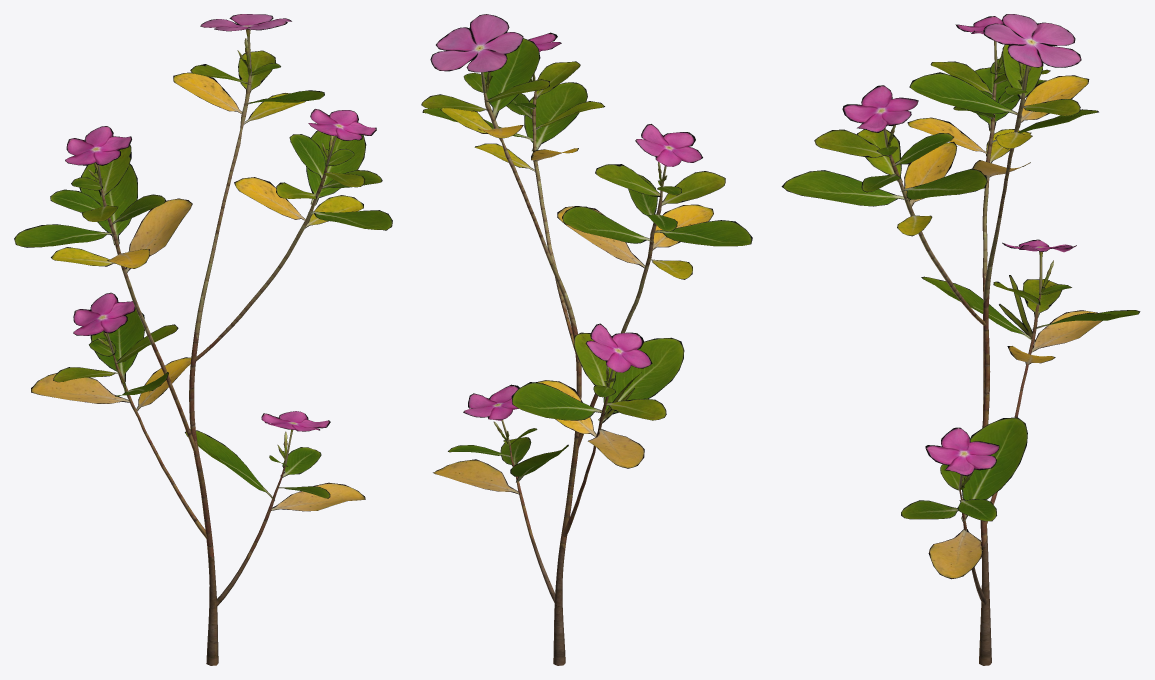
File: trailing-plant.glb
3 views of the same model, side by side, from view 1: azimuth 30°, elevation 25°; view 2: azimuth 150°, elevation 25°; view 3: azimuth 270°, elevation 25° (orthographic). The views are drawn at different scales.
Visible parts, largest first — view 1: periwinkle_plant_03_LOD0; view 2: periwinkle_plant_03_LOD0; view 3: periwinkle_plant_03_LOD0.
Part boxes in pixels (x1,y1,x2,y2): periwinkle_plant_03_LOD0: (14, 14, 392, 665); periwinkle_plant_03_LOD0: (421, 14, 752, 665); periwinkle_plant_03_LOD0: (781, 14, 1140, 665).
Size of the model in its own units: 0.1675 by 0.3002 by 0.1466.
Materials: 1 (1 with a texture image).
